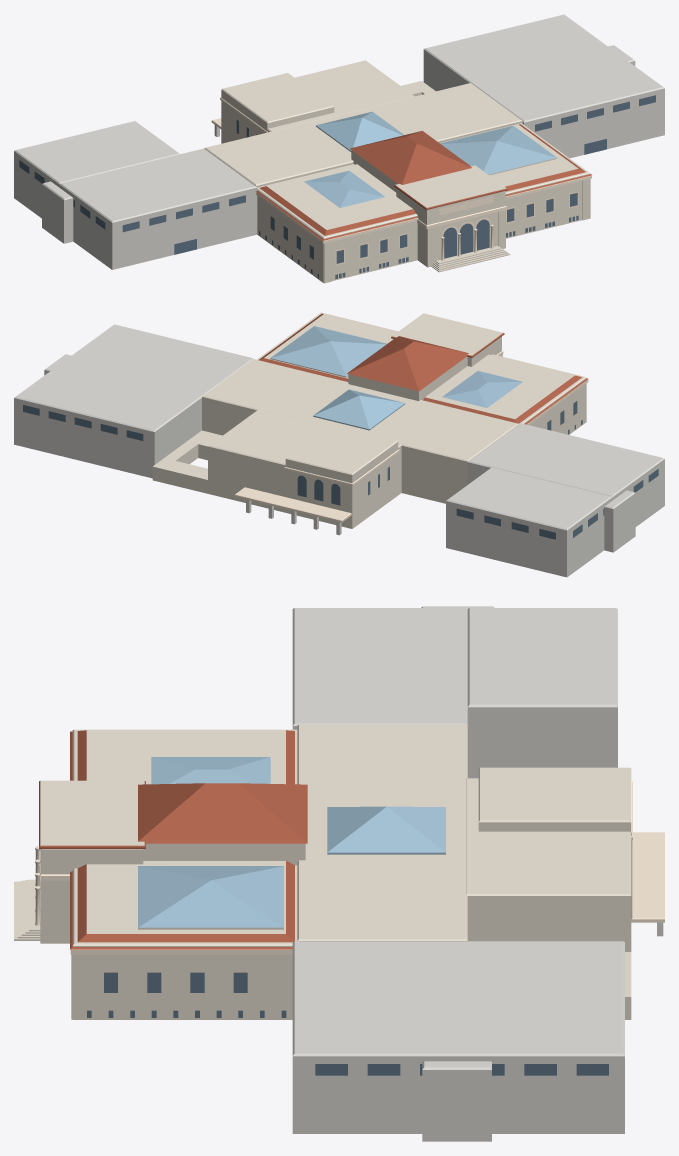
The model's file is det-detroit-institute-of-arts.glb.
3 views of the same model, one above another, from view 1: azimuth 30°, elevation 25°; view 2: azimuth 150°, elevation 25°; view 3: azimuth 270°, elevation 25° (orthographic). The views are drawn at different scales.
Visible parts, largest first — view 1: Detroit Institute of Arts; view 2: Detroit Institute of Arts; view 3: Detroit Institute of Arts.
Part boxes in pixels (box(x1,y1,x2,y2)): Detroit Institute of Arts: box(14, 14, 664, 283); Detroit Institute of Arts: box(14, 312, 664, 577); Detroit Institute of Arts: box(14, 606, 664, 1141).
Size of the model in its own units: 202 by 26.3 by 120.
